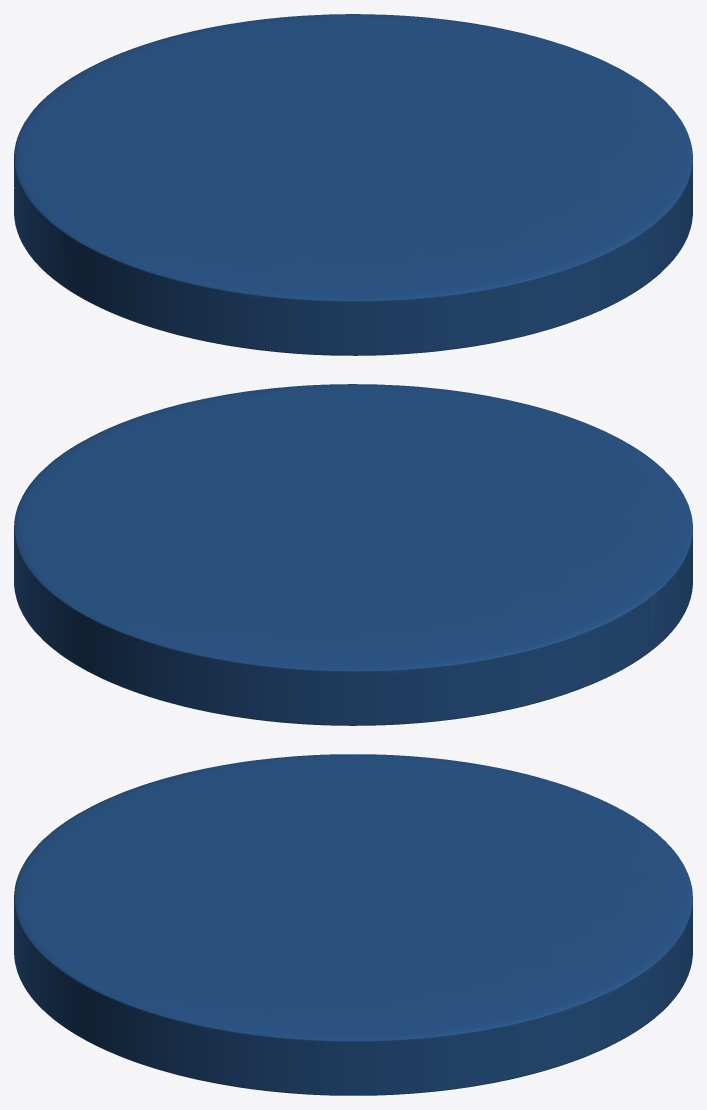
3 views of the same model, one above another, from view 1: azimuth 30°, elevation 25°; view 2: azimuth 150°, elevation 25°; view 3: azimuth 270°, elevation 25° (orthographic).
Parts seen in each view (by area): view 1: PM3D_Cylinder3D1; view 2: PM3D_Cylinder3D1; view 3: PM3D_Cylinder3D1.
Boxes of the visible parts, x1=… form: PM3D_Cylinder3D1: x1=14, y1=14, x2=692, y2=355; PM3D_Cylinder3D1: x1=14, y1=384, x2=692, y2=725; PM3D_Cylinder3D1: x1=14, y1=754, x2=692, y2=1095.
Size of the model in its own units: 1.99 by 0.2 by 1.99.
